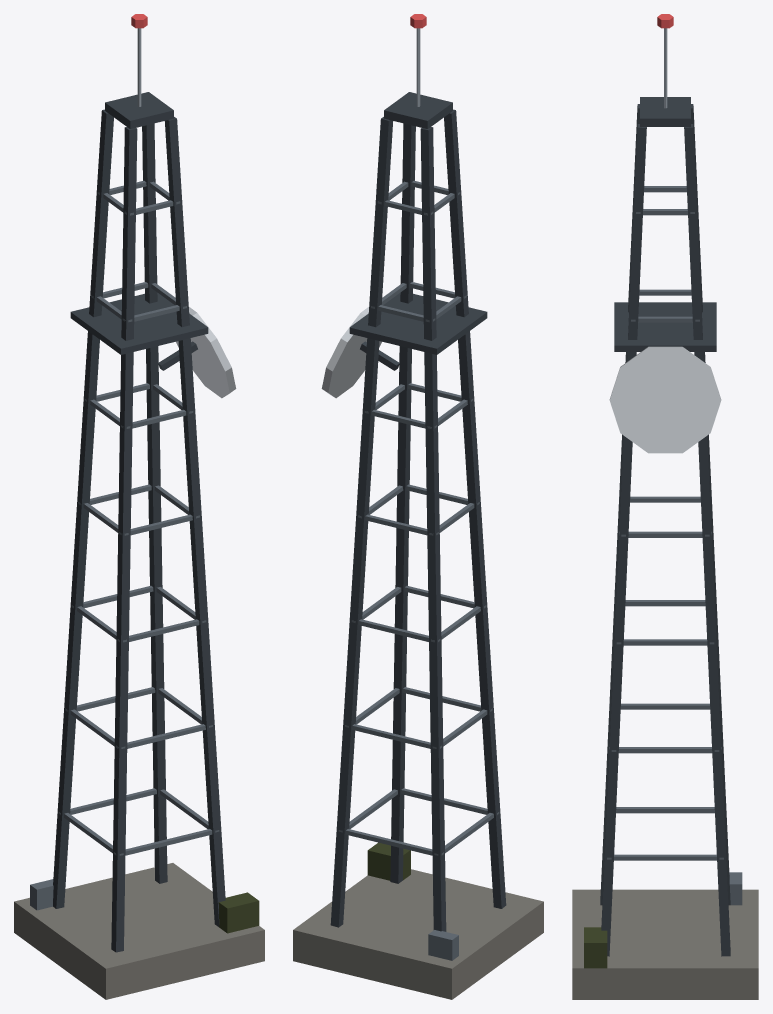
Rendered from env_comm_tower.fbx.
3 views of the same model, side by side, from view 1: azimuth 30°, elevation 25°; view 2: azimuth 150°, elevation 25°; view 3: azimuth 270°, elevation 25° (orthographic).
Visible parts, largest first — view 1: env_comm_tower; view 2: env_comm_tower; view 3: env_comm_tower.
Boxes of the visible parts, box(x1,y1,x2,y2) form: env_comm_tower: box(14, 14, 264, 999); env_comm_tower: box(293, 14, 543, 999); env_comm_tower: box(572, 14, 758, 999).
Size of the model in its own units: 804 by 4470 by 800.
